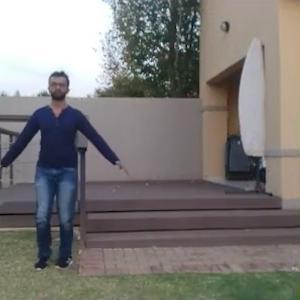land: (0, 71, 134, 277)
